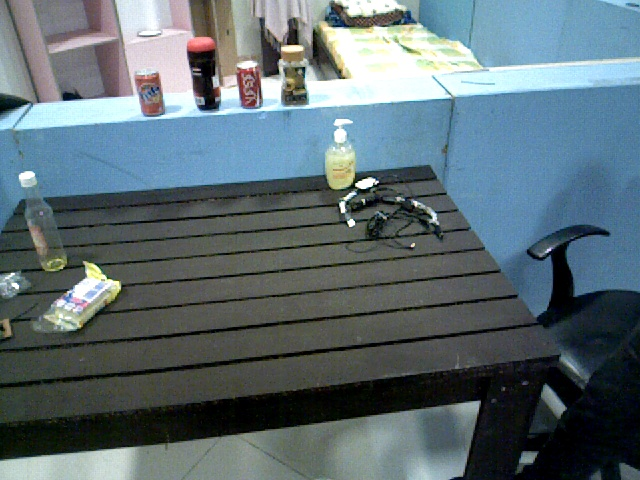coca: (234, 58, 263, 110)
coffee: (279, 45, 311, 107)
cream: (188, 35, 225, 113)
fanta: (133, 67, 166, 117)
